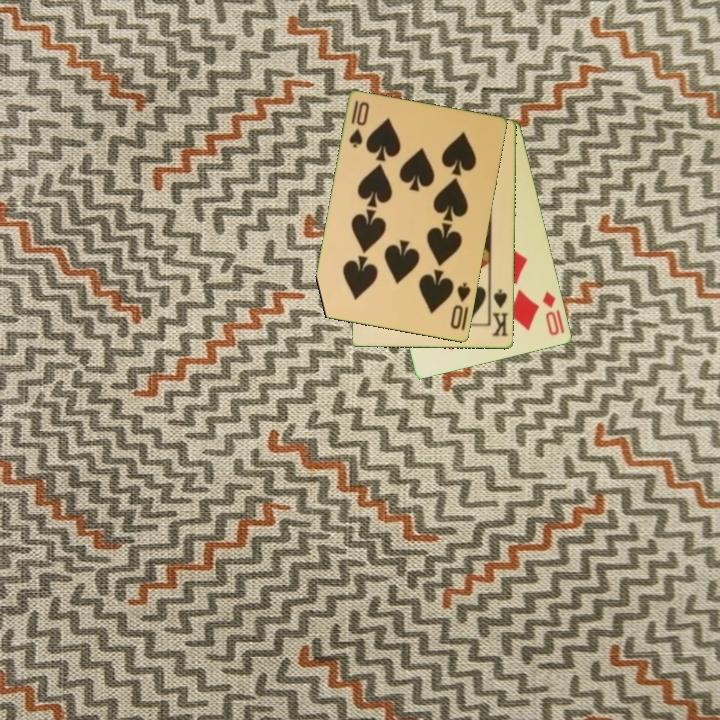10d: (539, 288, 562, 339)
10s: (447, 279, 474, 332), (346, 97, 372, 151)
Ks: (487, 286, 511, 339)
